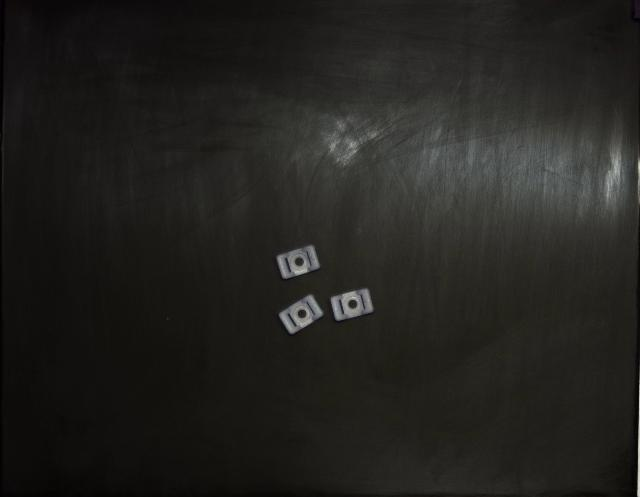first_side: (279, 295, 324, 335), (276, 245, 320, 280), (330, 289, 374, 321)
